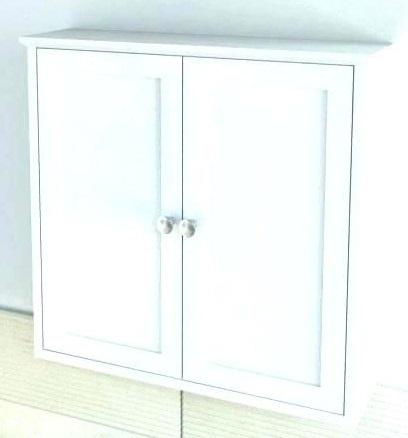cabinet_door: (186, 61, 350, 406), (39, 53, 179, 366)
handle: (179, 213, 198, 245), (156, 212, 174, 242)
